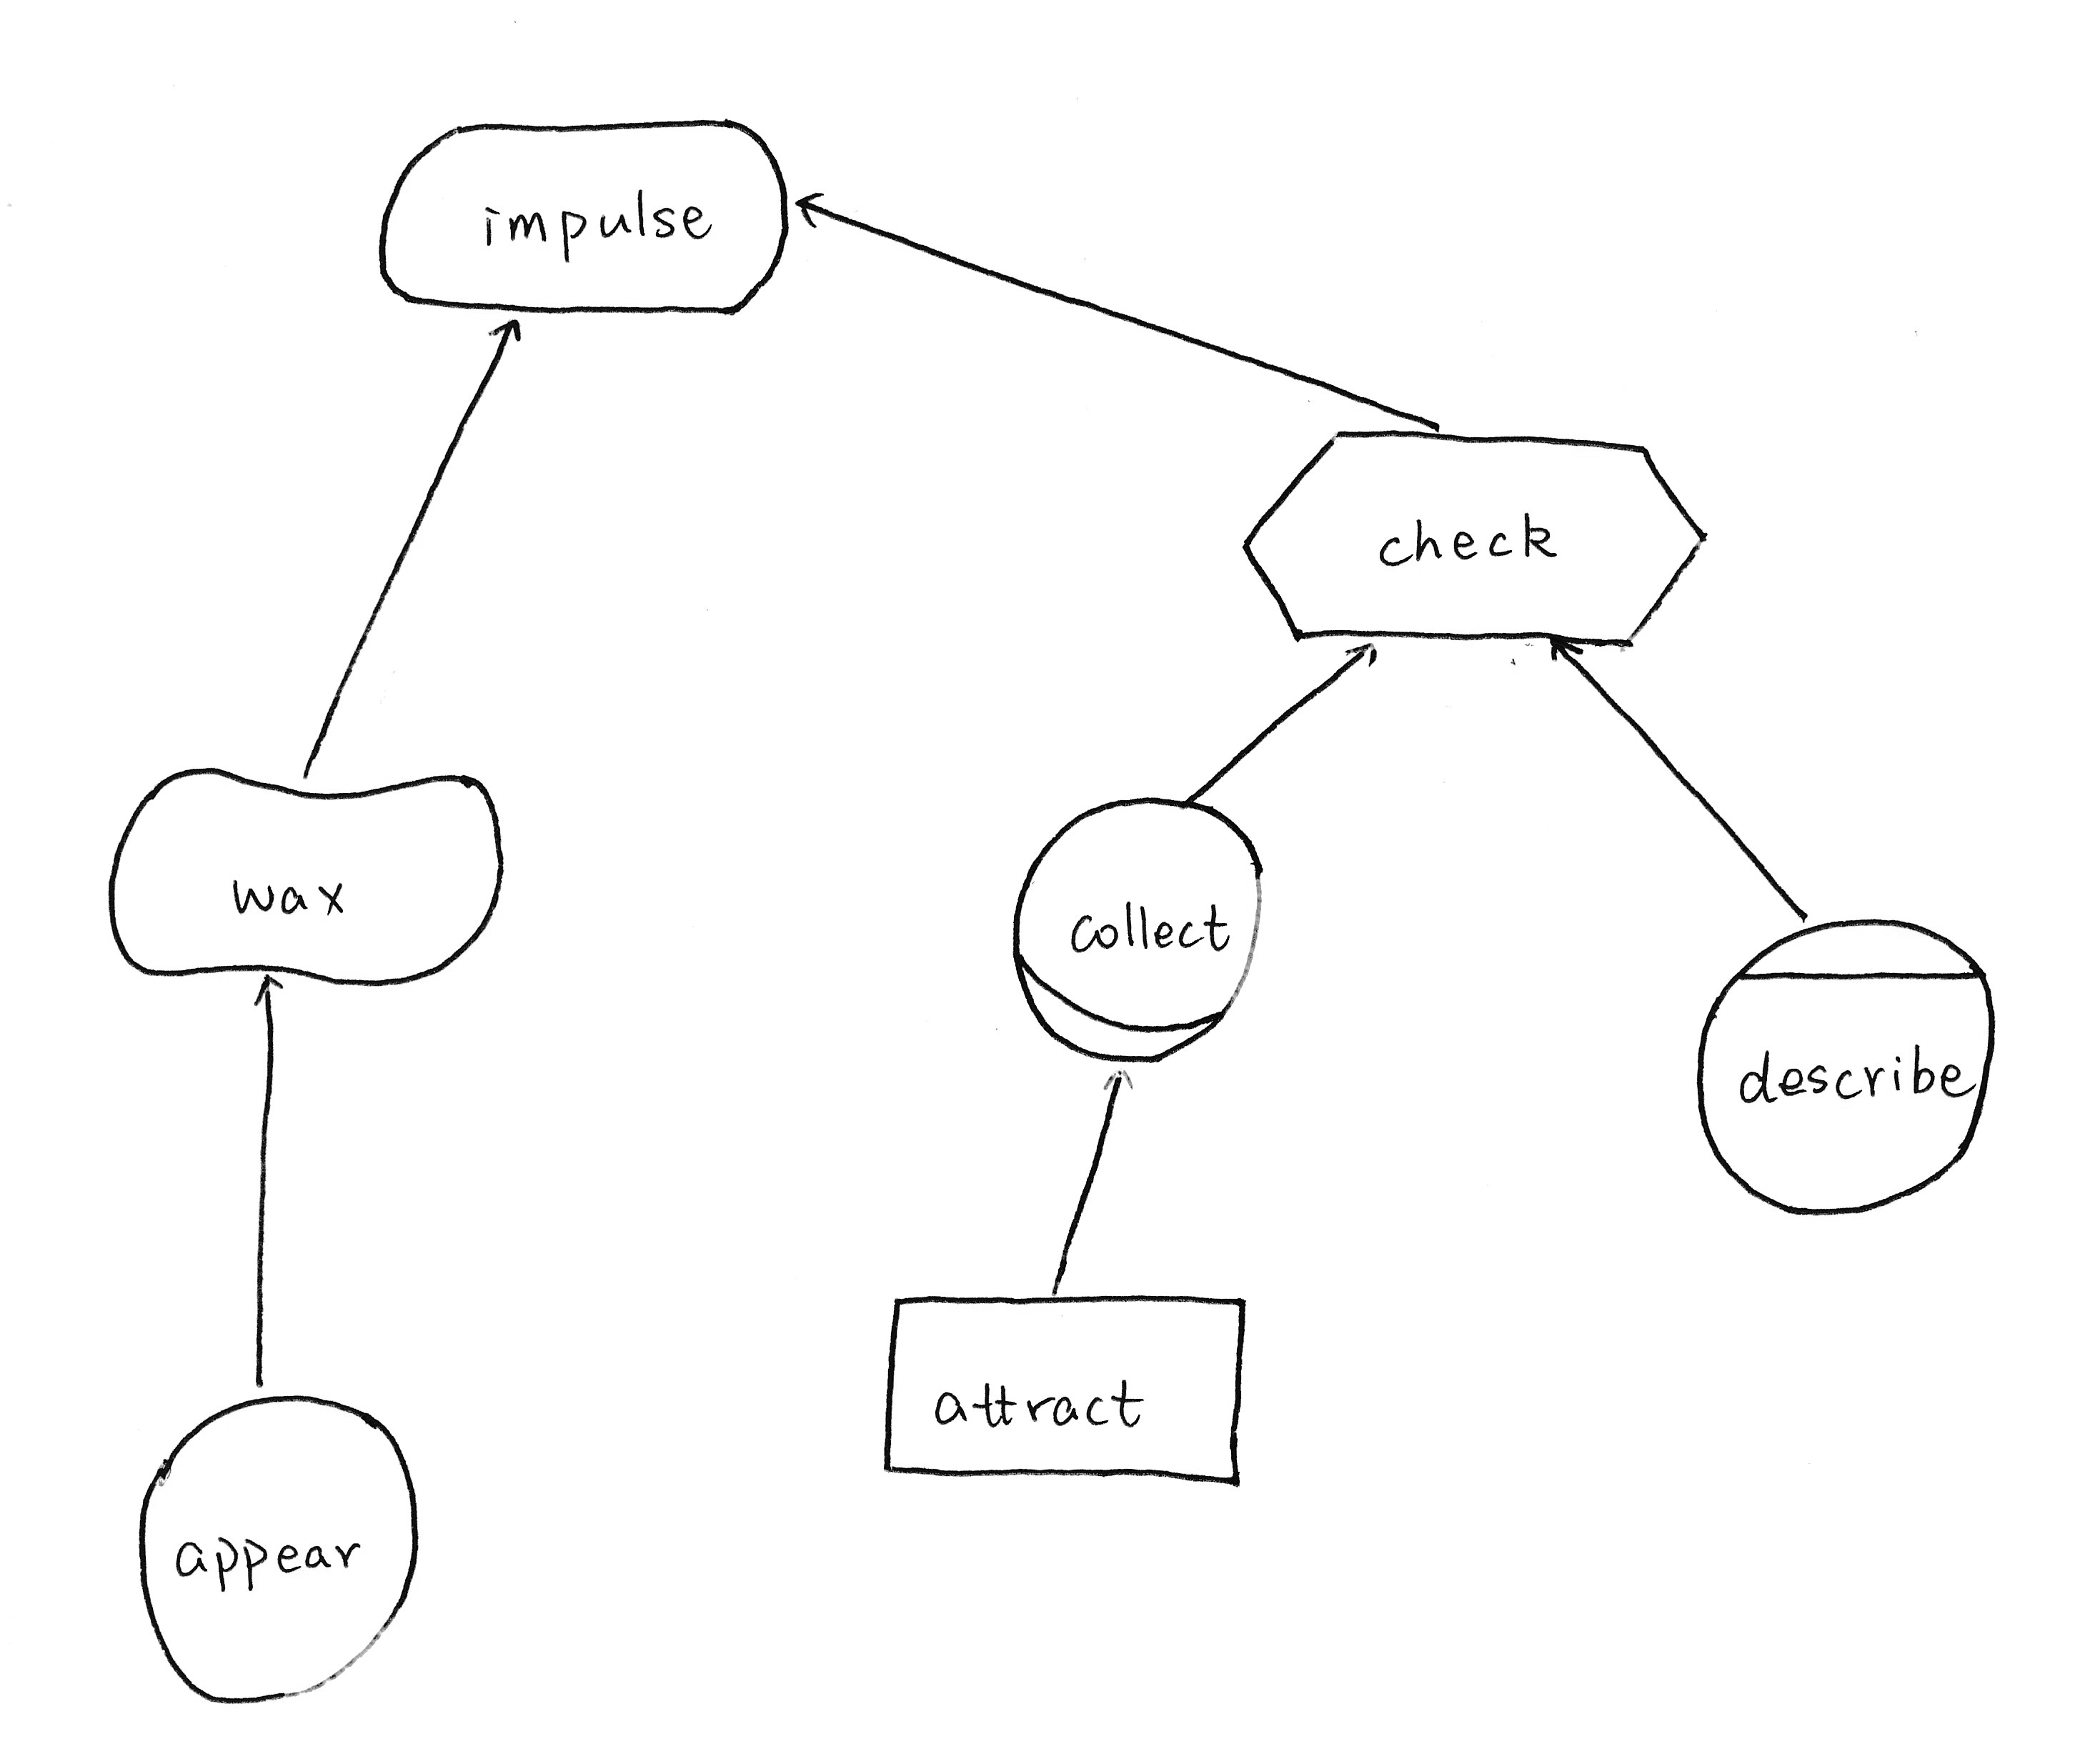actor: (119, 1376, 447, 1721)
agent: (1673, 895, 2008, 1229)
arrow: (773, 174, 848, 248), (227, 957, 300, 1025), (1531, 621, 1617, 678), (474, 309, 551, 370), (1088, 1048, 1156, 1107), (1334, 626, 1394, 685)
goal: (361, 98, 808, 354)
quality: (84, 741, 532, 1010)
resource: (863, 1268, 1273, 1515)
role: (994, 779, 1280, 1086)
task: (1221, 406, 1739, 682)
